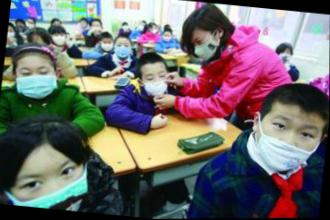OK: (14, 153, 90, 213), (16, 60, 59, 101), (138, 70, 172, 99), (191, 31, 220, 64), (115, 42, 133, 61), (53, 32, 67, 48), (103, 39, 115, 53), (280, 50, 292, 63), (8, 28, 16, 40), (27, 20, 35, 30), (163, 35, 172, 43)
WRONG: (258, 108, 320, 176)
